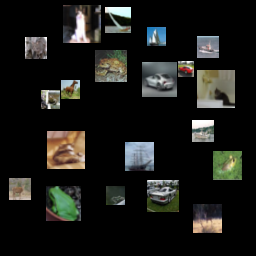automobile: (142, 62, 177, 97), (147, 180, 179, 212), (178, 61, 194, 77)
cat: (47, 131, 85, 169), (197, 70, 235, 108), (63, 5, 101, 43), (25, 37, 47, 59)
deer: (193, 204, 222, 233), (9, 178, 31, 200)
frog: (46, 186, 81, 221), (95, 50, 127, 82), (213, 151, 242, 180), (41, 90, 60, 109), (106, 186, 125, 205)
ship: (125, 142, 154, 171), (105, 7, 131, 33), (192, 120, 214, 142), (197, 36, 219, 58), (147, 27, 166, 46)
